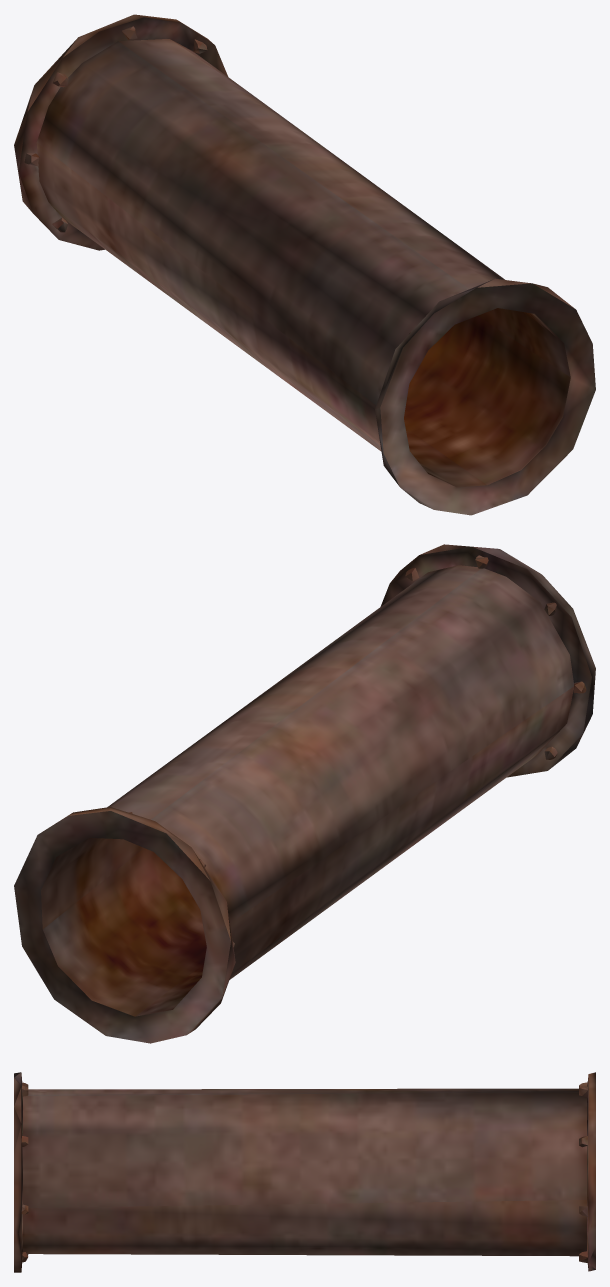
The model's file is rusty_pipe_22.glb.
3 renders of one model, top to bottom at view 1: azimuth 30°, elevation 25°; view 2: azimuth 150°, elevation 25°; view 3: azimuth 270°, elevation 25°, orthographic. The views are drawn at different scales.
Parts seen in each view (by area): view 1: rusty_pipe_22; view 2: rusty_pipe_22; view 3: rusty_pipe_22.
Part boxes in pixels (x1,y1,x2,y2): rusty_pipe_22: (14, 14, 595, 515); rusty_pipe_22: (14, 544, 595, 1043); rusty_pipe_22: (14, 1072, 595, 1272).
Size of what is drawn, in the model's own units: 0.0287 by 0.0287 by 0.0838.
1 material, 1 textured.
